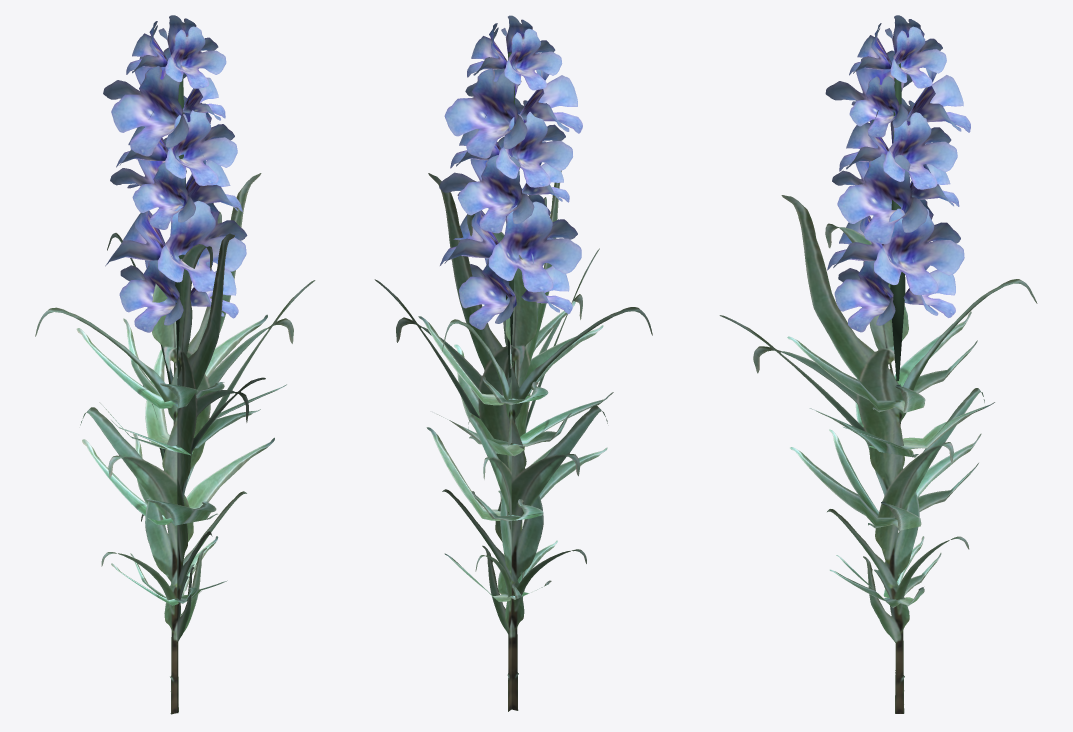
File: BeardTongue.glb
The picture shows the model from 3 angles, left to right: view 1: azimuth 30°, elevation 25°; view 2: azimuth 150°, elevation 25°; view 3: azimuth 270°, elevation 25°; orthographic projection.
Parts seen in each view (by area): view 1: Beard Tongue; view 2: Beard Tongue; view 3: Beard Tongue.
Part boxes in pixels (x1,y1,x2,y2): Beard Tongue: (35, 15, 315, 714); Beard Tongue: (374, 15, 652, 711); Beard Tongue: (719, 15, 1037, 713).
Size of the model in its own units: 0.4375 by 0.9165 by 0.4278.
Materials: 1 (1 with a texture image).
